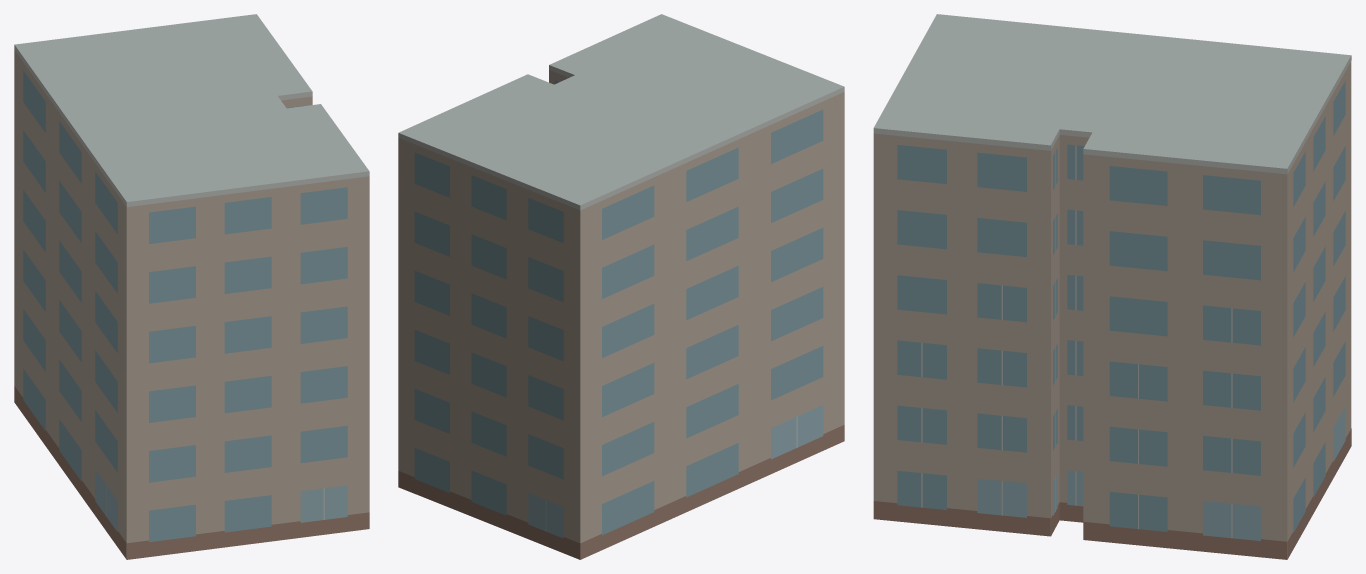
The model's file is survey-upis-32947366.glb.
The picture shows the model from 3 angles, left to right: view 1: azimuth 30°, elevation 25°; view 2: azimuth 150°, elevation 25°; view 3: azimuth 270°, elevation 25°; orthographic projection. The views are drawn at different scales.
Parts seen in each view (by area): view 1: survey-upis-32947366.tmp; view 2: survey-upis-32947366.tmp; view 3: survey-upis-32947366.tmp.
Boxes of the visible parts, <box> form: survey-upis-32947366.tmp: <box>14,14,369,559</box>; survey-upis-32947366.tmp: <box>398,14,844,559</box>; survey-upis-32947366.tmp: <box>873,14,1351,559</box>.
Bounding box in the file's own units: 14.74 × 17.35 × 19.23.
